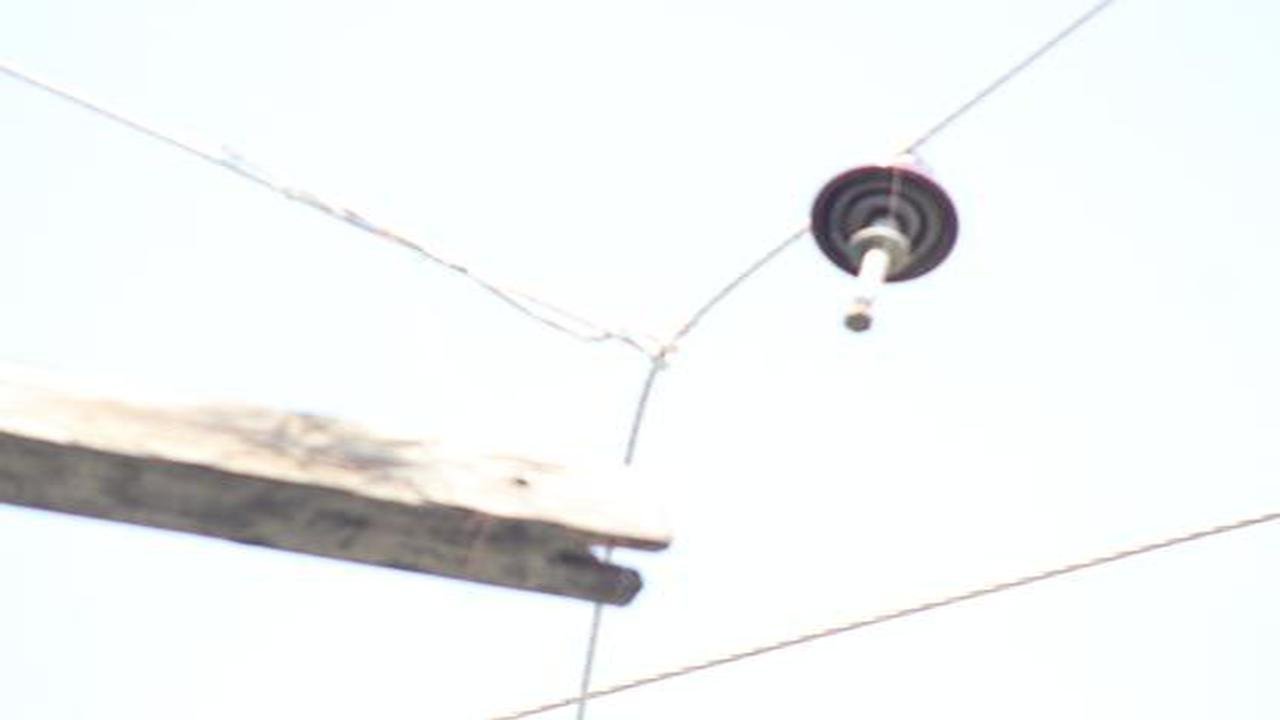insulator_pin: (812, 151, 963, 273)
